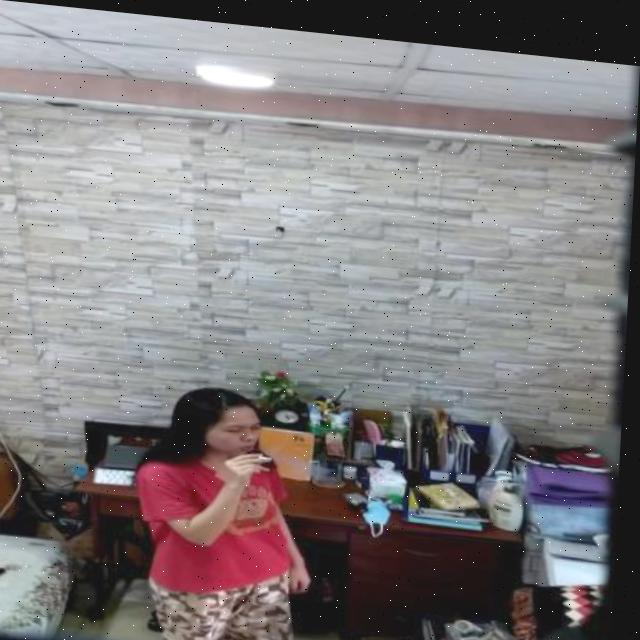cigarette: (262, 449, 279, 454)
